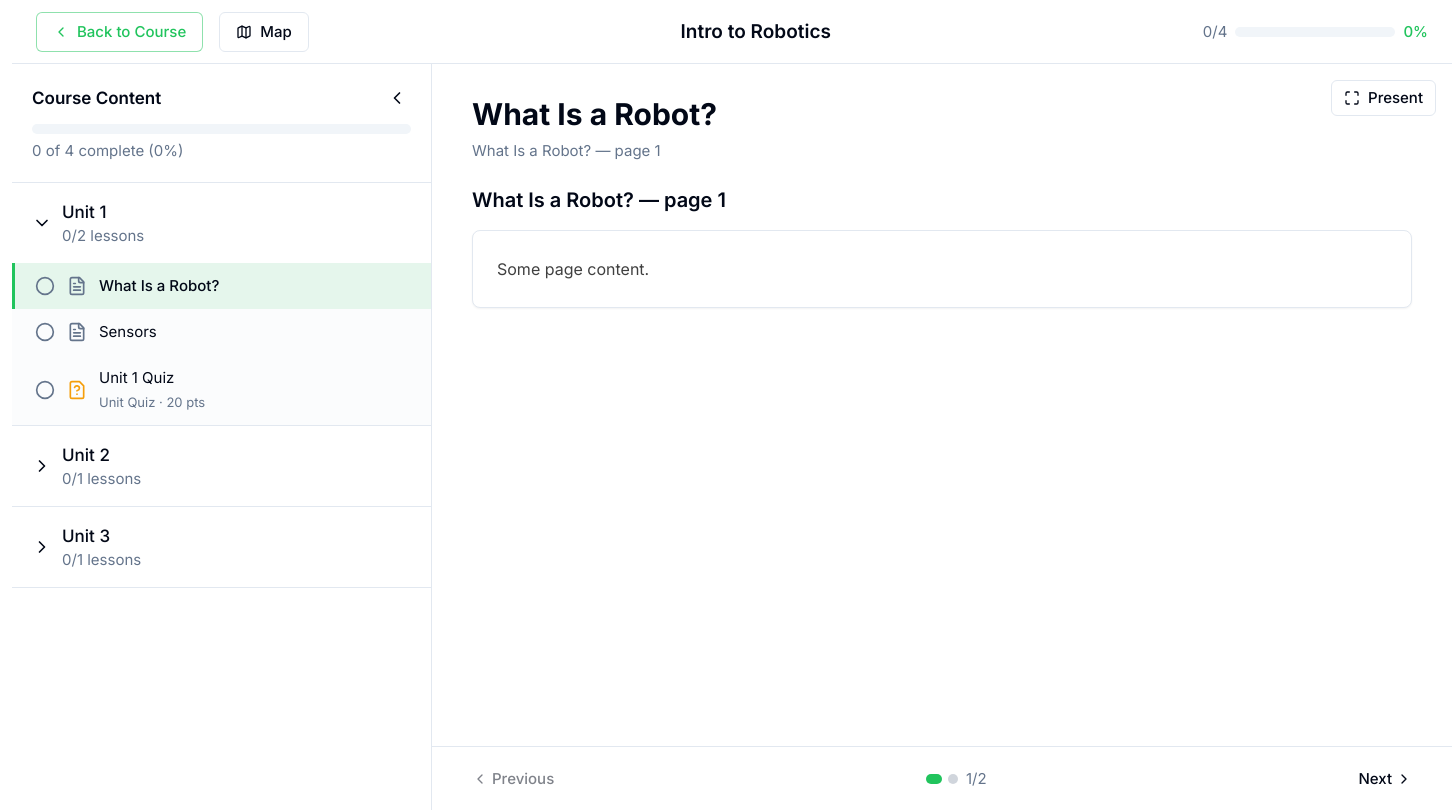
Test: CoursePlayerPage — lesson transitions (phase 70) › still resumes a mid-lesson page when the lesson is picked from the sidebar
Expected: the heading "What Is a Robot?" is shown, [472,96,717,132]
Click the button "Sensors" at point(128, 332), box [12,309,431,355]
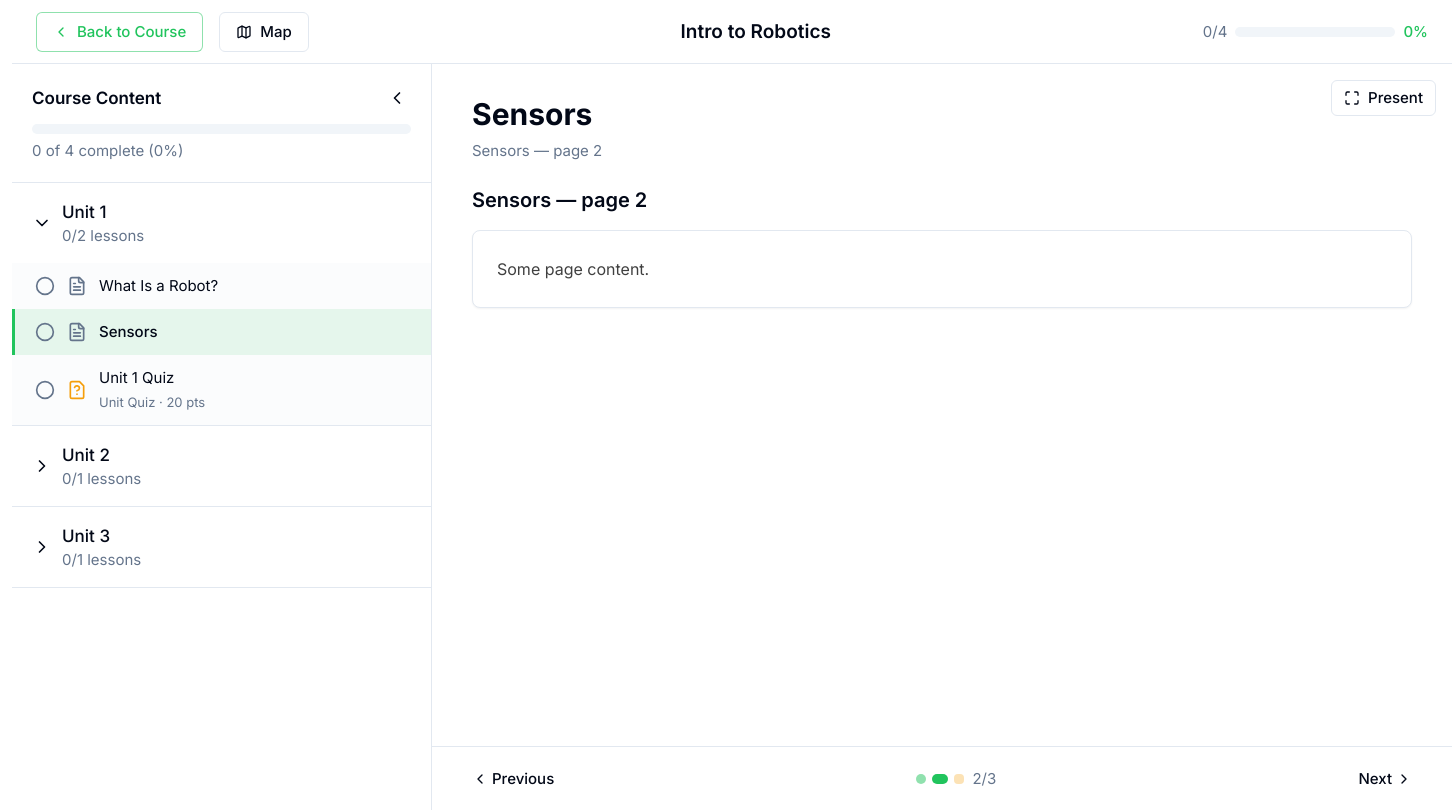
Now the heading "Sensors" is shown, box [472,96,592,132]
Now the text with test id "page-indicator" reads "2/3", box [972,768,996,790]
